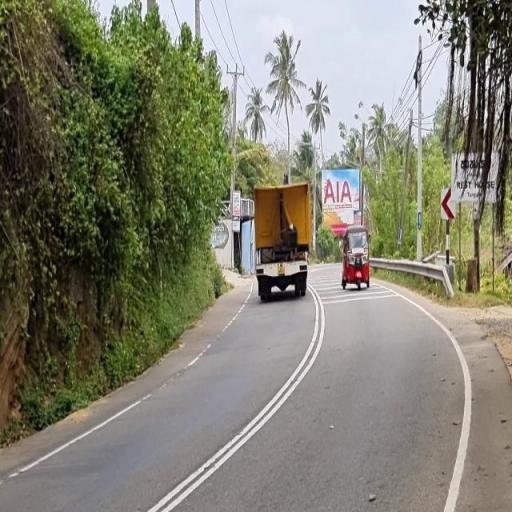double_white_line: (142, 288, 326, 510)
